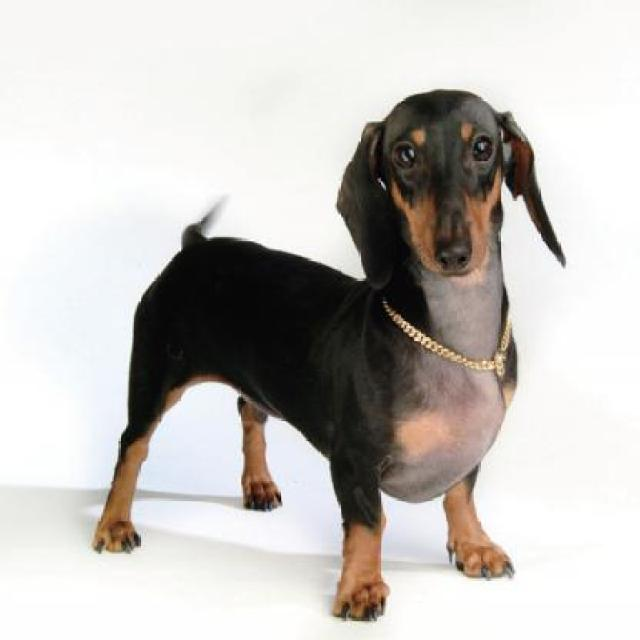Dog: (92, 80, 568, 622)
